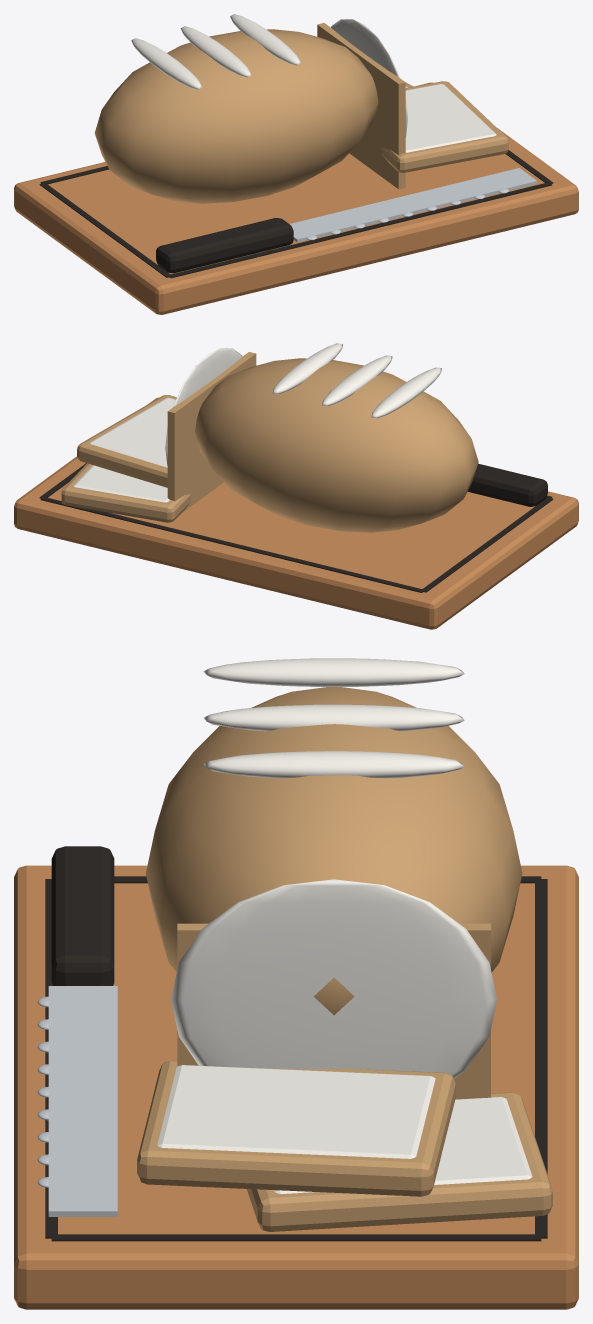
Rendered from hh_cat_bread_board.glb.
3 renders of one model, top to bottom at view 1: azimuth 30°, elevation 25°; view 2: azimuth 150°, elevation 25°; view 3: azimuth 270°, elevation 25°, orthographic. The views are drawn at different scales.
Parts seen in each view (by area): view 1: board, loaf, knife_blade, loaf.001, knife_handle, slice_crumb.001, slice.001, groove, crumb, score, score.001, score.002 (+1 smaller); view 2: board, loaf, loaf.001, slice_crumb.001, slice, slice.001, knife_handle, slice_crumb, groove.002, crumb, score, score.001 (+2 smaller); view 3: board, loaf, crumb, slice_crumb.001, knife_blade, slice.001, slice, knife_handle, slice_crumb, score, score.002, score.001 (+4 smaller).
Part boxes in pixels (x1,y1,x2,y2): board: (14,82,578,314); loaf: (95,29,378,203); knife_blade: (289,168,537,242); loaf.001: (317,23,405,189); knife_handle: (156,218,293,273); slice_crumb.001: (405,84,496,152); slice.001: (381,81,508,172); groove: (168,182,551,278); crumb: (331,19,407,136); score: (131,38,202,89); score.001: (180,26,251,77); score.002: (230,14,300,65); board: (14,397,578,629); loaf: (195,358,478,532); loaf.001: (167,352,256,513); slice_crumb.001: (90,397,175,467); slice: (61,463,191,522); slice.001: (77,395,176,487); knife_handle: (467,463,547,506); slice_crumb: (73,465,169,502); groove.002: (40,497,423,592); crumb: (165,348,242,465); score: (371,367,441,418); score.001: (322,355,392,406); board: (14,865,578,1309); loaf: (146,687,522,1015); crumb: (171,879,497,1078); slice_crumb.001: (157,1065,435,1158); knife_blade: (48,986,117,1216); slice.001: (137,1060,455,1196); slice: (247,1092,552,1231); knife_handle: (51,846,114,985); slice_crumb: (274,1096,532,1193); score: (203,658,464,686); score.002: (203,751,464,778); score.001: (204,704,464,731).
Size of the model in its own units: 0.3 by 0.12 by 0.18.
